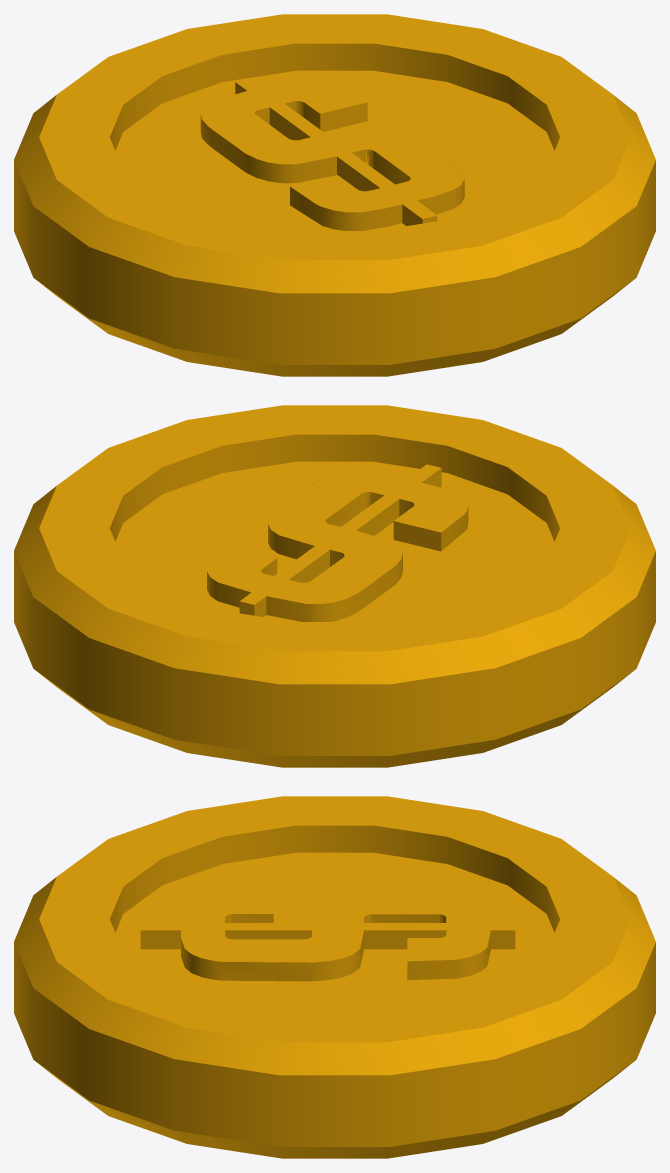
File: coin.glb
The picture shows the model from 3 angles, top to bottom: view 1: azimuth 30°, elevation 25°; view 2: azimuth 150°, elevation 25°; view 3: azimuth 270°, elevation 25°; orthographic projection.
Visible parts, largest first — view 1: Coin; view 2: Coin; view 3: Coin.
Part boxes in pixels (x1,y1,x2,y2): Coin: (14,14,655,376); Coin: (14,405,655,767); Coin: (14,796,655,1158).
Bounding box in the file's own units: 1.97 × 0.4 × 2.
